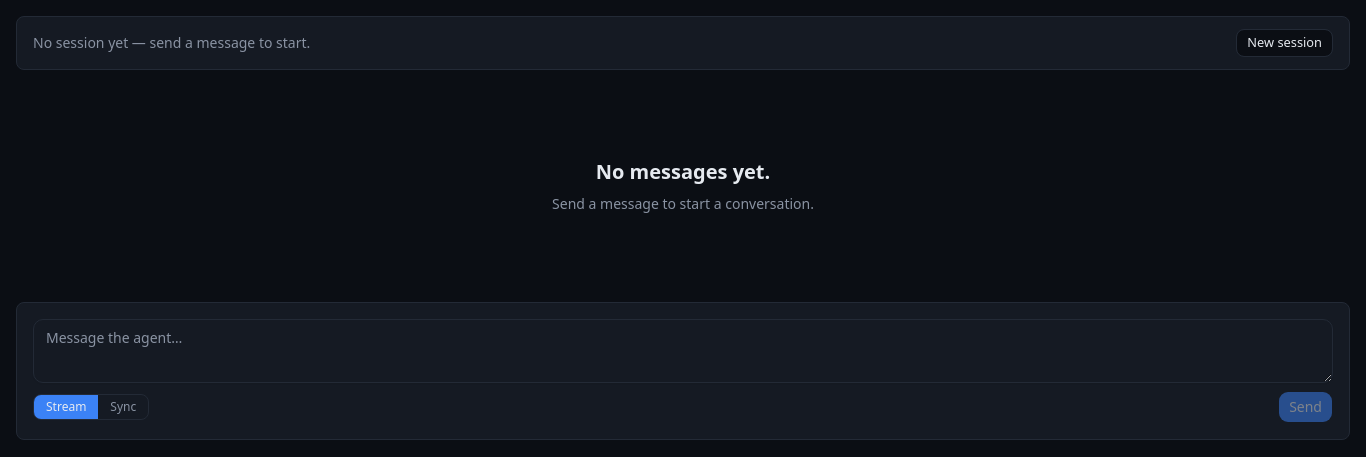
Test: ChatPage — Stream|Sync toggle (D-03 / CHAT-03) › Sync routes Send to chatSync → one bubble with NO trace
This screenshot has width=1366, height=457.
Click the button "Sync": [123, 407] box [98, 395, 148, 419]
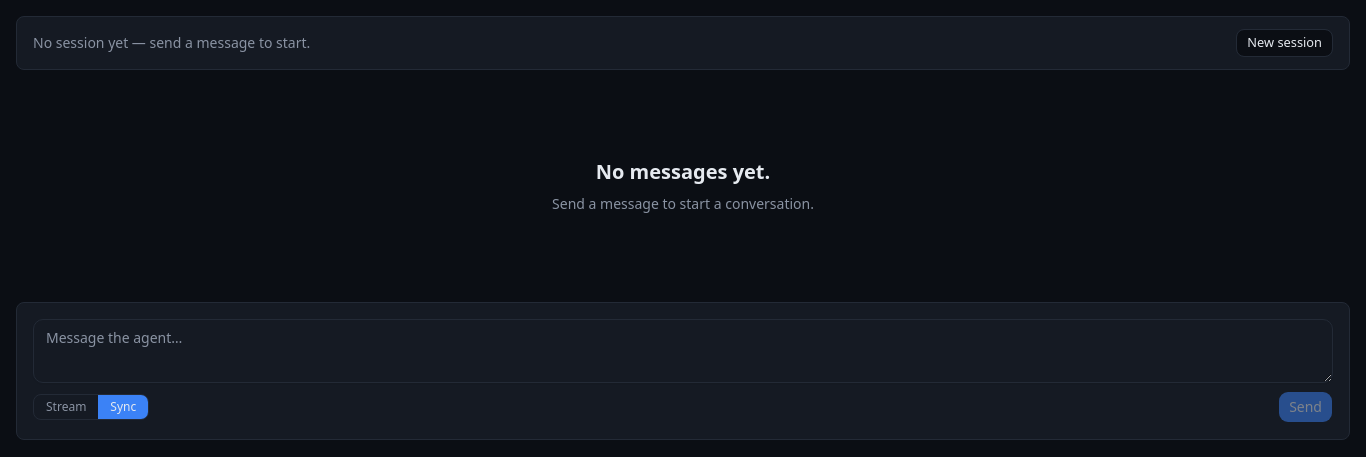
In the text box labelled "Message the agent": [683, 351] box [33, 319, 1333, 383], type "sync please"
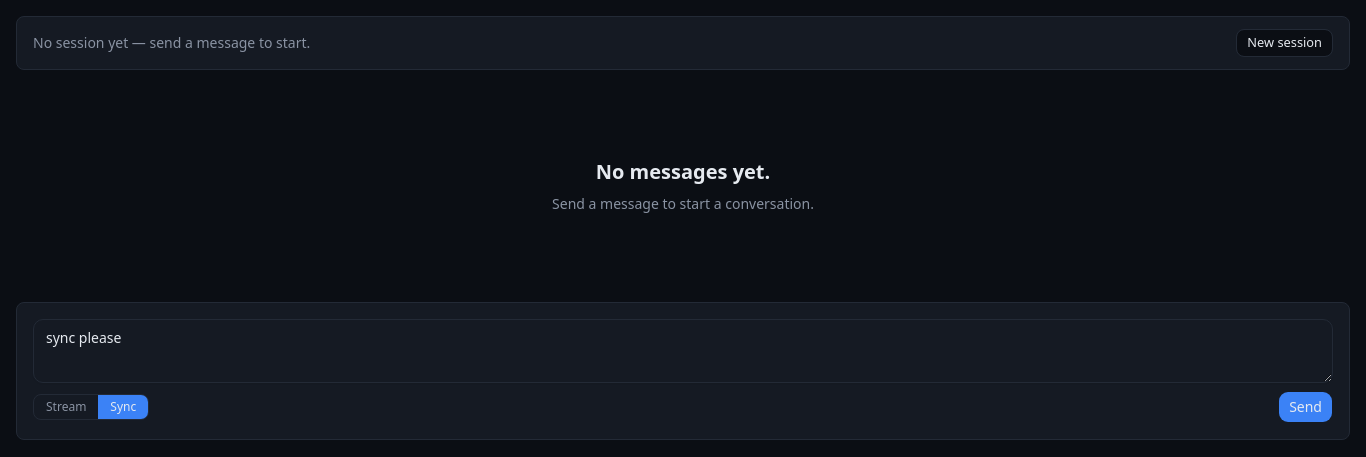
Click the button "Send": [1306, 407] box [1278, 391, 1333, 423]
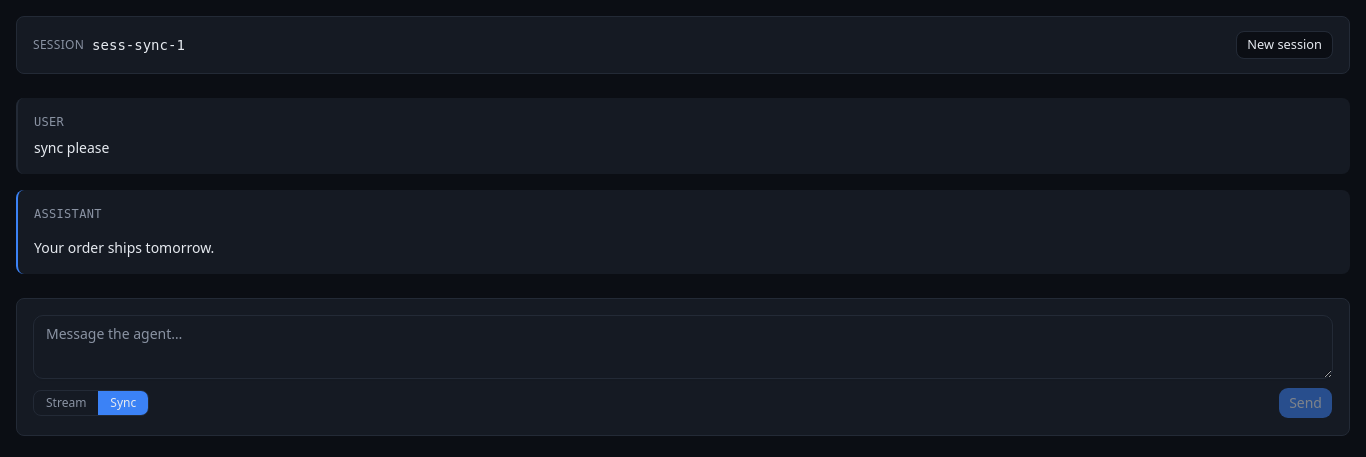
Check: the text "sync please" is shown, box [34, 138, 109, 157]
Check: the text "Your order ships tomorrow." is shown, box [34, 238, 214, 257]
Check: the text "ASSISTANT" is shown once, box [34, 206, 102, 222]
